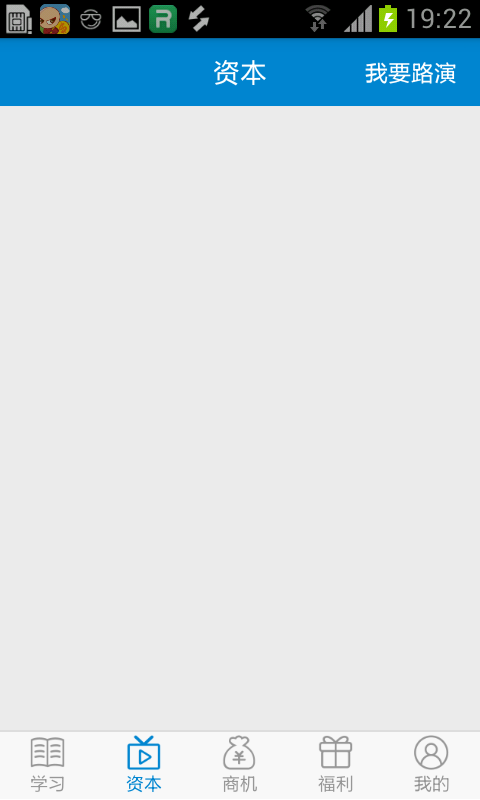button: (350, 49, 459, 91)
